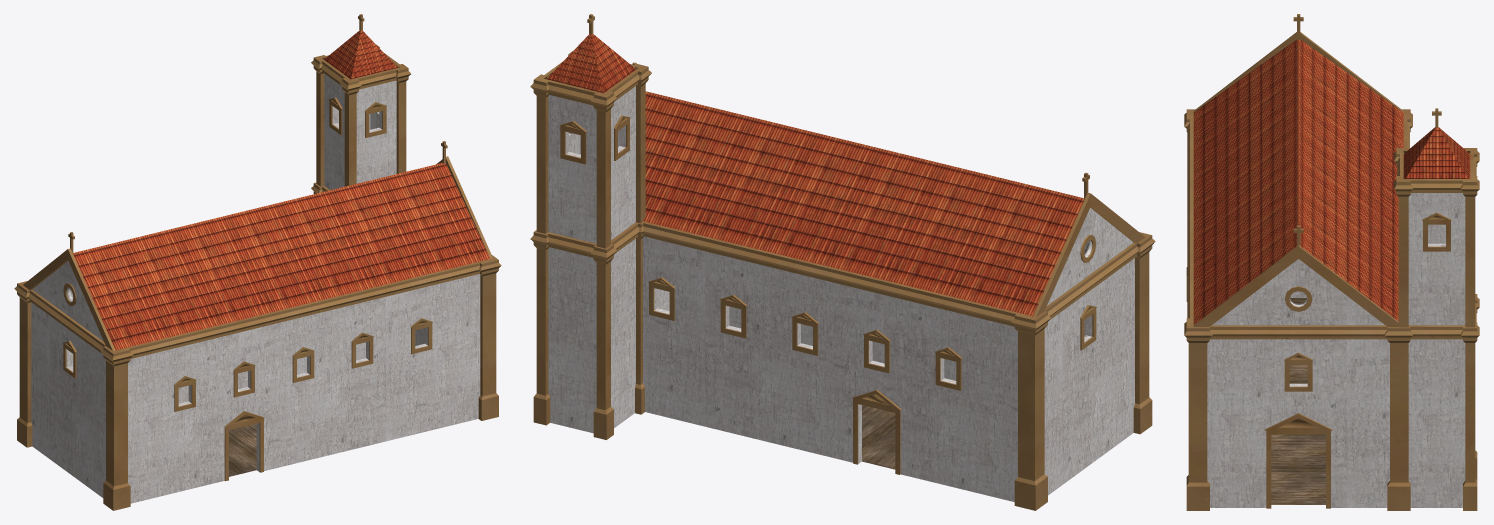
The model's file is chapel.lod1.glb.
3 views of the same model, side by side, from view 1: azimuth 30°, elevation 25°; view 2: azimuth 150°, elevation 25°; view 3: azimuth 270°, elevation 25° (orthographic). The views are drawn at different scales.
Parts seen in each view (by area): view 1: Object_6, Object_5, Object_4, Object_7; view 2: Object_6, Object_5, Object_4, Object_7; view 3: Object_6, Object_5, Object_4, Object_7.
Boxes of the visible parts, bbox=[...] form: Object_6: bbox=[31, 73, 480, 503]; Object_5: bbox=[73, 30, 490, 350]; Object_4: bbox=[14, 14, 501, 510]; Object_7: bbox=[229, 423, 256, 476]; Object_6: bbox=[548, 86, 1134, 501]; Object_5: bbox=[546, 34, 1083, 316]; Object_4: bbox=[530, 14, 1155, 510]; Object_7: bbox=[862, 405, 895, 469]; Object_6: bbox=[1207, 193, 1465, 507]; Object_5: bbox=[1193, 39, 1470, 324]; Object_4: bbox=[1184, 14, 1479, 510]; Object_7: bbox=[1271, 298, 1325, 504].
Size of the model in its own units: 12 by 9.75 by 6.78.
4 materials, 4 textured.
